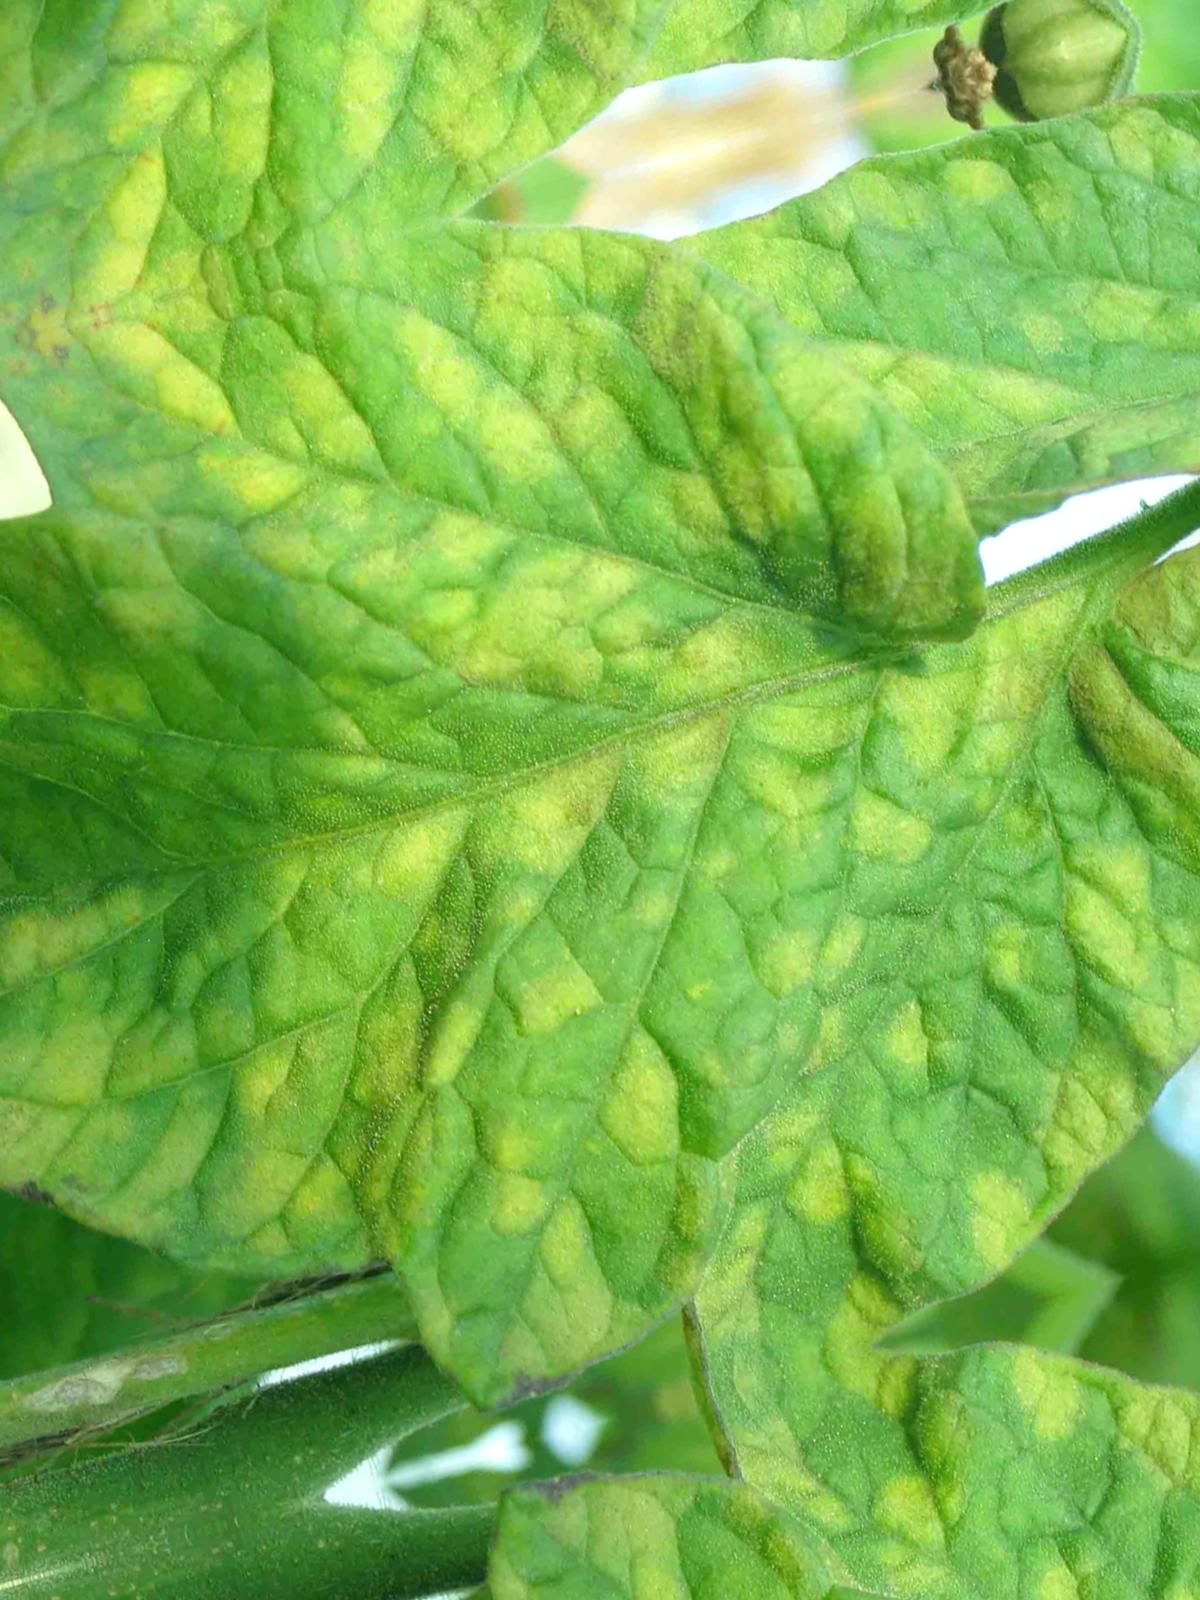Tomato mold leaf: (0, 34, 1200, 1570)
